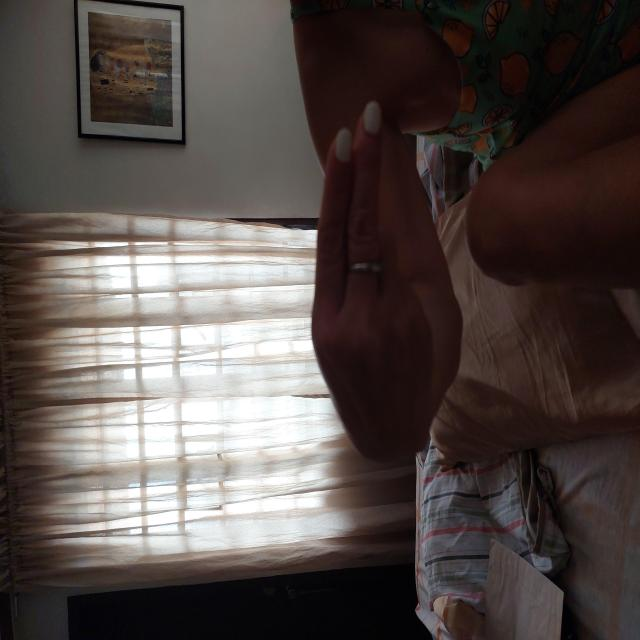H: (173, 309, 542, 436)
